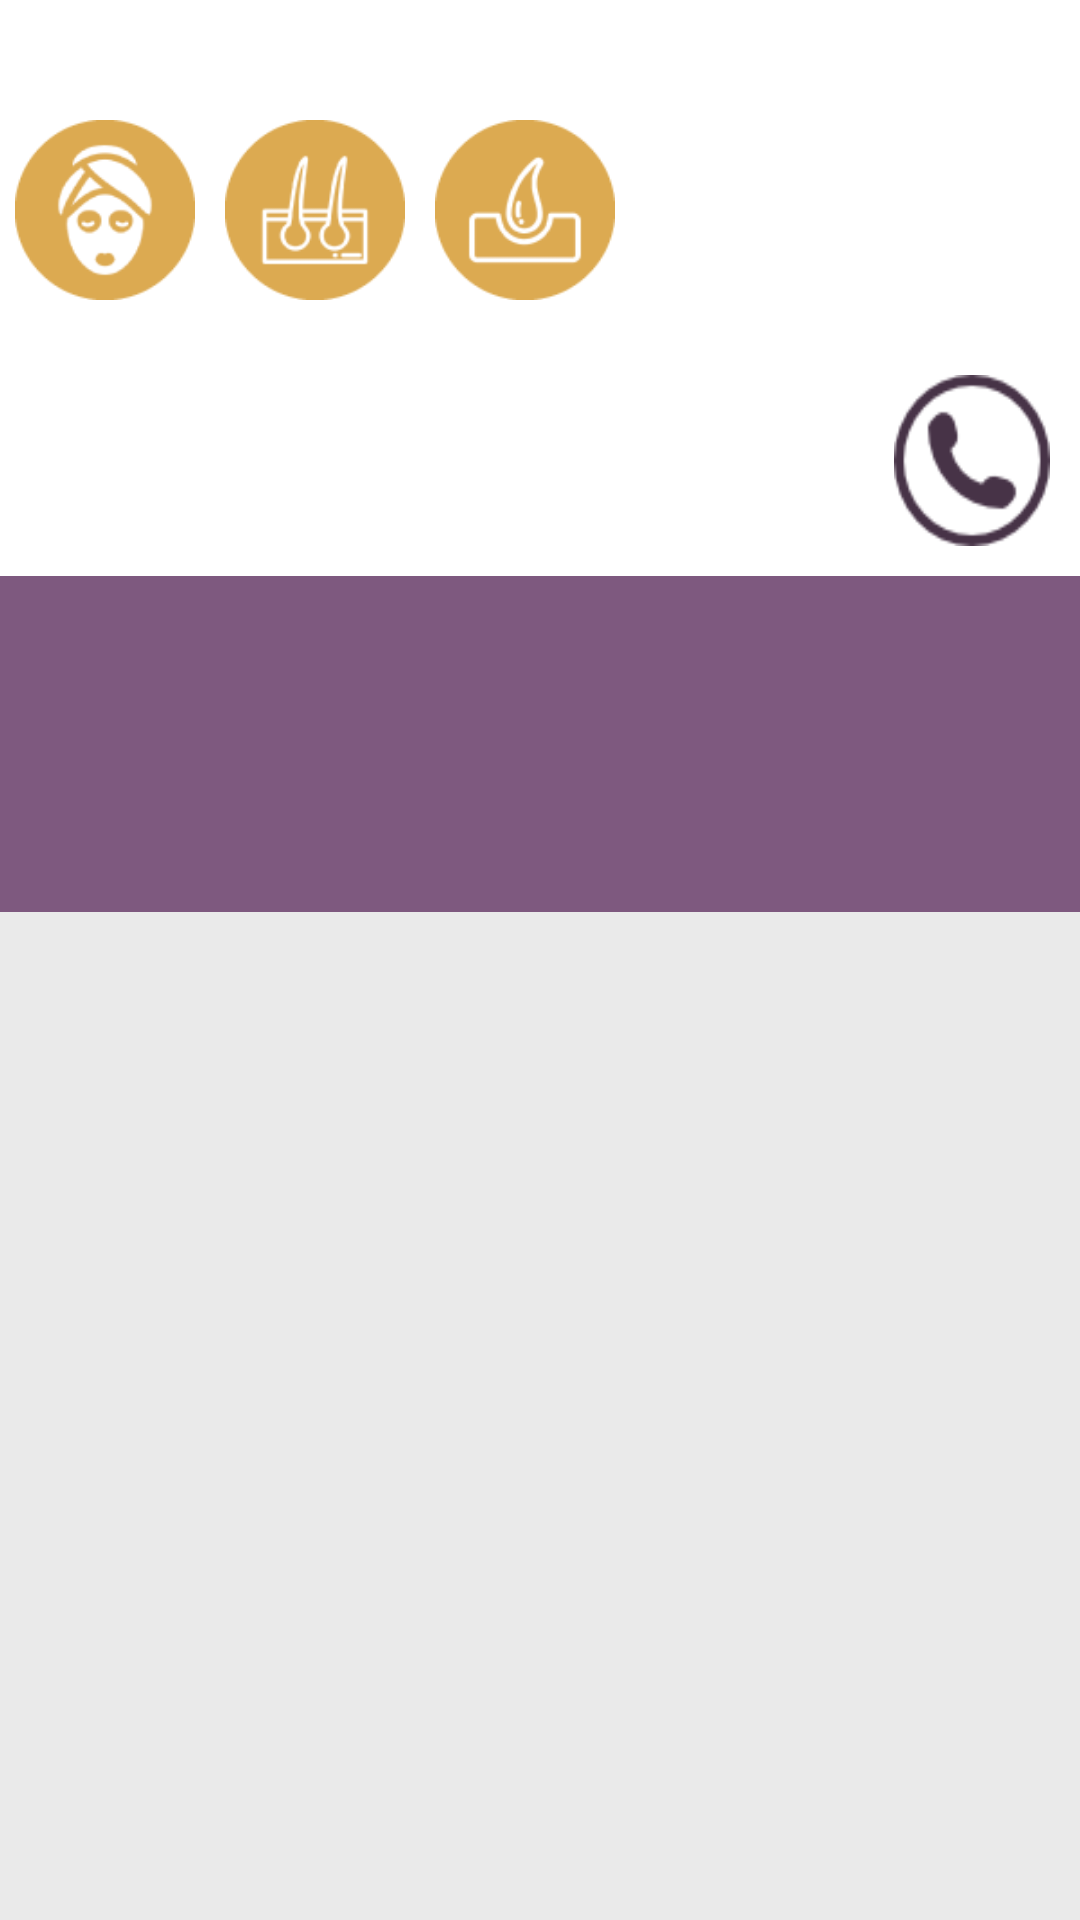

Named icons in this screenshot (1080 x 1920) and their centers, point (x, y):
phone: point (972, 460)
